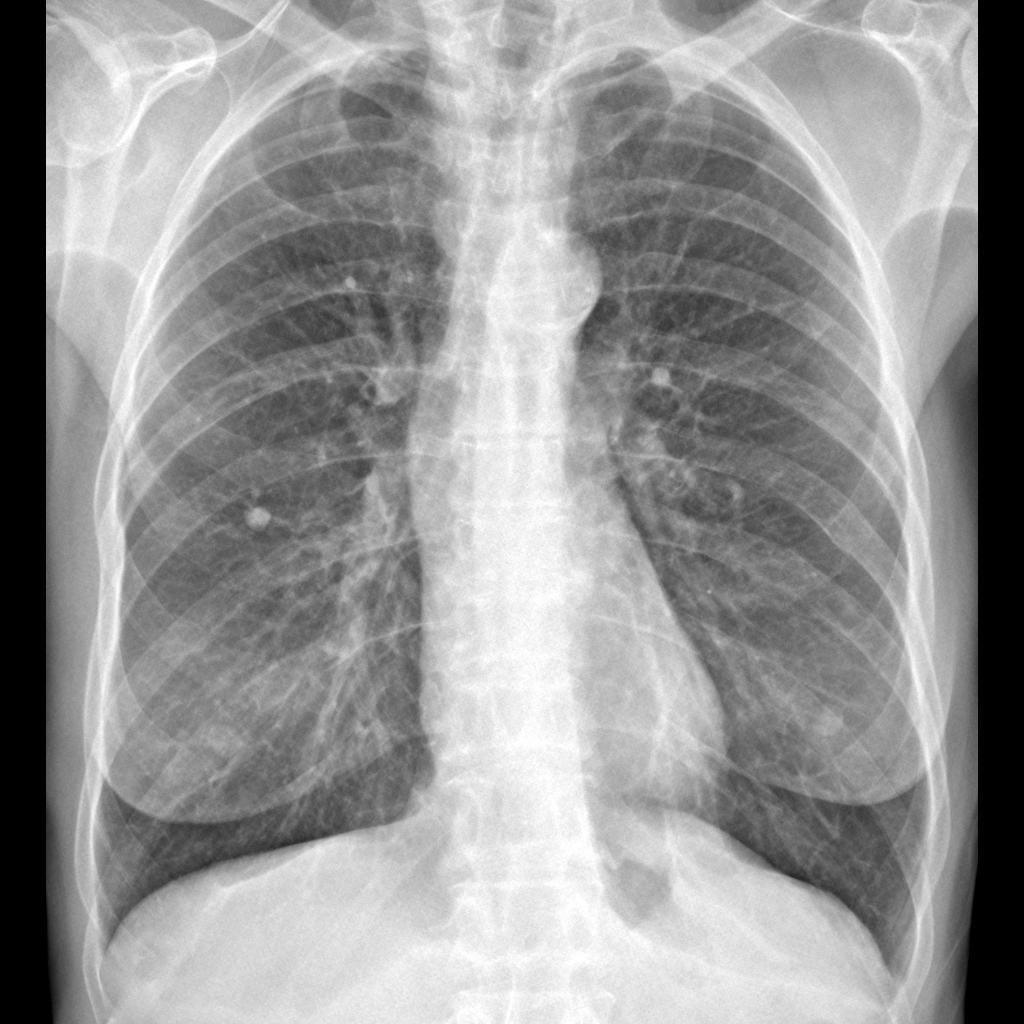Nodule: (235, 494, 279, 548)
